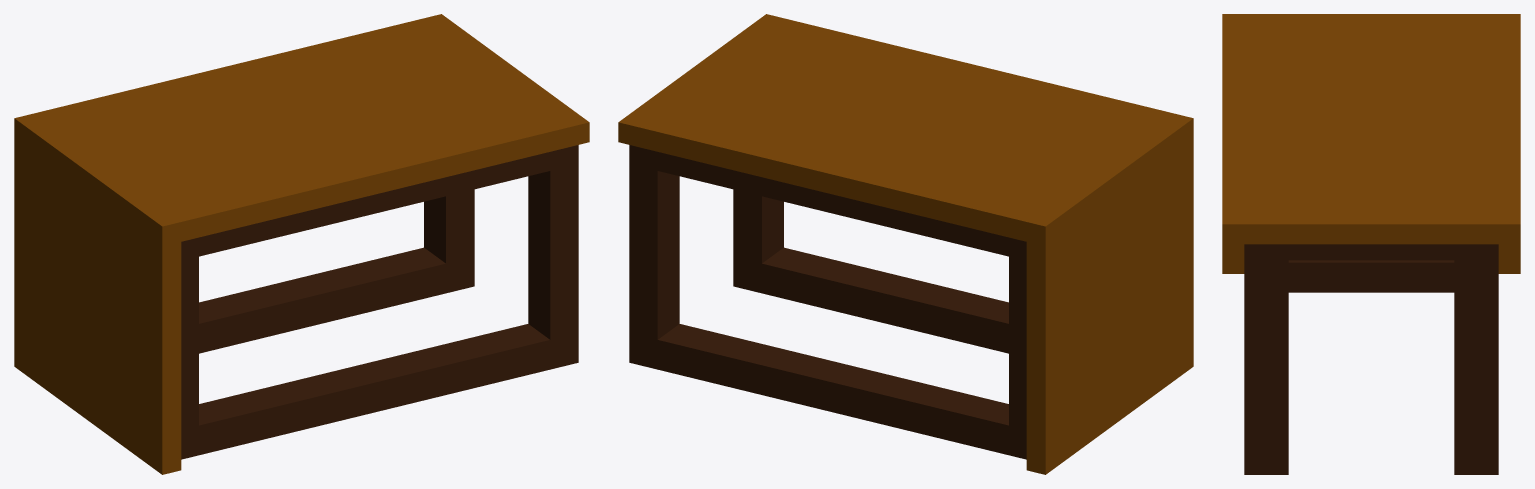
Rendered from chair2.glb.
The picture shows the model from 3 angles, left to right: view 1: azimuth 30°, elevation 25°; view 2: azimuth 150°, elevation 25°; view 3: azimuth 270°, elevation 25°; orthographic projection.
Visible parts, largest first — view 1: beam1.001, beam1.002, beam2.001, beam2.002, pillar1.002, pillar2.002, pillar1.003, pillar1.001, pillar2.003, pillar1.004; view 2: beam1.002, beam1.001, beam2.002, beam2.001, pillar2.002, pillar1.002, pillar2.003, pillar2.001, pillar1.003, pillar2.004; view 3: beam1.001, beam1.002, pillar1.003, pillar2.003, pillar3.002, pillar3.003, beam2.001, beam2.002, pillar1.001, pillar2.001, pillar1.002, pillar2.002.
Boxes of the visible parts, bbox=[...] form: beam1.001: bbox=[107, 68, 589, 241]; beam1.002: bbox=[34, 14, 515, 167]; beam2.001: bbox=[88, 168, 181, 474]; beam2.002: bbox=[14, 113, 106, 420]; pillar1.002: bbox=[181, 324, 578, 459]; pillar2.002: bbox=[199, 247, 474, 353]; pillar1.003: bbox=[528, 164, 578, 339]; pillar1.001: bbox=[181, 145, 578, 260]; pillar2.003: bbox=[424, 189, 474, 263]; pillar1.004: bbox=[181, 256, 198, 429]; beam1.002: bbox=[618, 68, 1100, 241]; beam1.001: bbox=[692, 14, 1173, 167]; beam2.002: bbox=[1026, 168, 1119, 474]; beam2.001: bbox=[1101, 113, 1193, 420]; pillar2.002: bbox=[629, 324, 1026, 459]; pillar1.002: bbox=[733, 247, 1008, 353]; pillar2.003: bbox=[629, 164, 679, 339]; pillar2.001: bbox=[629, 145, 1026, 260]; pillar1.003: bbox=[733, 189, 783, 263]; pillar2.004: bbox=[1009, 256, 1026, 429]; beam1.001: bbox=[1222, 23, 1371, 244]; beam1.002: bbox=[1371, 23, 1520, 244]; pillar1.003: bbox=[1244, 274, 1288, 444]; pillar2.003: bbox=[1454, 274, 1498, 444]; pillar3.002: bbox=[1288, 260, 1454, 292]; pillar3.003: bbox=[1288, 244, 1454, 260]; beam2.001: bbox=[1222, 14, 1371, 273]; beam2.002: bbox=[1371, 14, 1520, 273]; pillar1.001: bbox=[1244, 244, 1288, 274]; pillar2.001: bbox=[1454, 244, 1498, 274]; pillar1.002: bbox=[1244, 445, 1288, 474]; pillar2.002: bbox=[1454, 445, 1498, 474].
Bounding box in the file's own units: 0.45 × 0.25 × 0.27.
